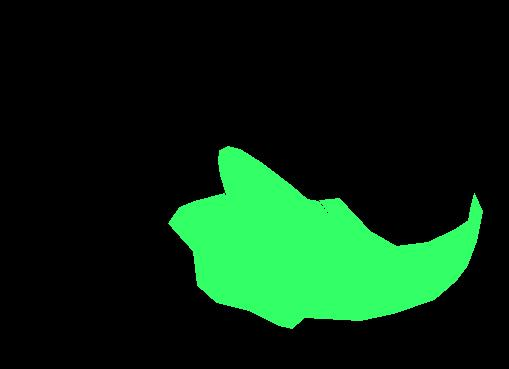Broken part: (168, 193, 482, 328), (218, 146, 345, 250)
